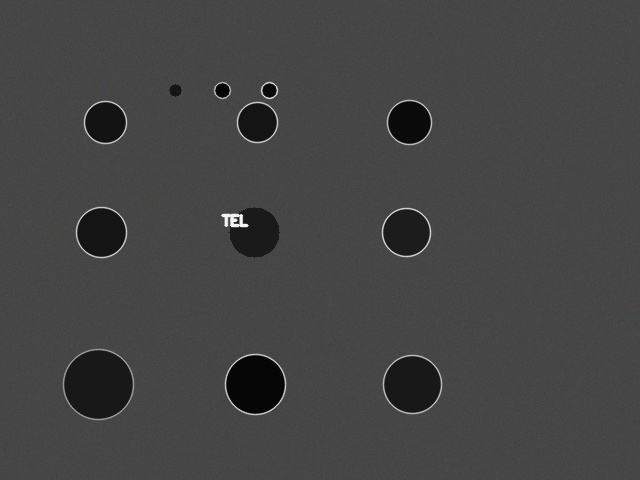hole: (63, 349, 133, 419), (225, 354, 285, 414), (383, 355, 441, 413), (76, 207, 126, 257), (229, 207, 279, 257), (382, 208, 430, 256), (387, 100, 431, 144), (84, 101, 126, 143), (237, 102, 277, 142), (214, 82, 230, 98), (261, 82, 277, 98), (169, 84, 181, 96)
